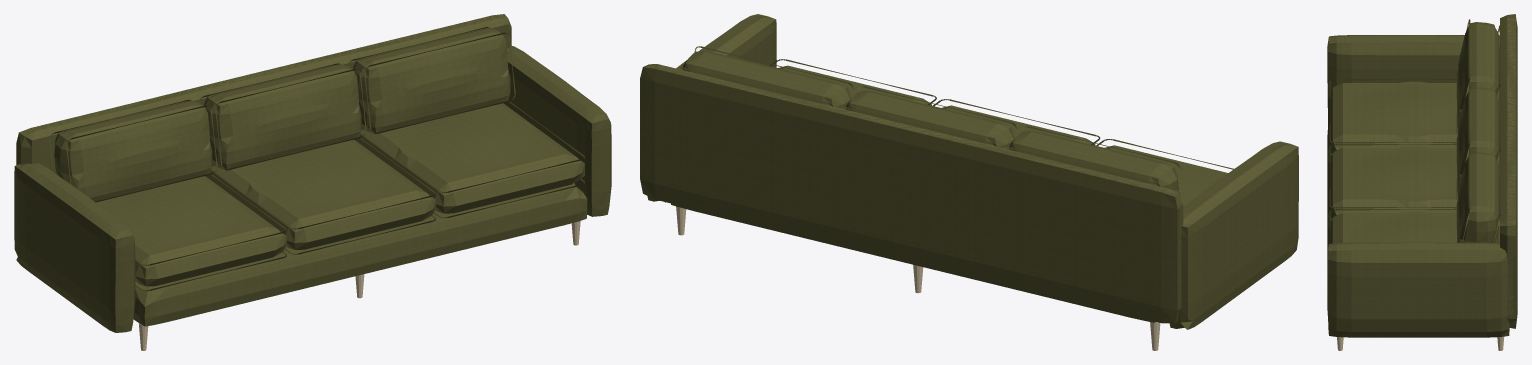
Rendered from ATL-SOF-4-seat.glb.
3 renders of one model, left to right at view 1: azimuth 30°, elevation 25°; view 2: azimuth 150°, elevation 25°; view 3: azimuth 270°, elevation 25°, orthographic. The views are drawn at different scales.
Parts seen in each view (by area): view 1: deck:fabric:eyJwcmVzZXQiOiJoZXJyaW5nYm9uZSIsIndhcnAiOiJvbGl2, seat-3:fabric:eyJwcmVzZXQiOiJoZXJyaW5nYm9uZSIsIndhcnAiOiJvbG, seat-2:fabric:eyJwcmVzZXQiOiJoZXJyaW5nYm9uZSIsIndhcnAiOiJvbG, arm-pad-l:fabric:eyJwcmVzZXQiOiJoZXJyaW5nYm9uZSIsIndhcnAiOiJ, seat-1:fabric:eyJwcmVzZXQiOiJoZXJyaW5nYm9uZSIsIndhcnAiOiJvbG, back-3:fabric:eyJwcmVzZXQiOiJoZXJyaW5nYm9uZSIsIndhcnAiOiJvbG, back-2:fabric:eyJwcmVzZXQiOiJoZXJyaW5nYm9uZSIsIndhcnAiOiJvbG, back-1:fabric:eyJwcmVzZXQiOiJoZXJyaW5nYm9uZSIsIndhcnAiOiJvbG, arm-pad-r:fabric:eyJwcmVzZXQiOiJoZXJyaW5nYm9uZSIsIndhcnAiOiJ, back-pad:fabric:eyJwcmVzZXQiOiJoZXJyaW5nYm9uZSIsIndhcnAiOiJv, back-2:piping:pbr, back-3:piping:pbr (+4 smaller); view 2: back-pad:fabric:eyJwcmVzZXQiOiJoZXJyaW5nYm9uZSIsIndhcnAiOiJv, arm-pad-l:fabric:eyJwcmVzZXQiOiJoZXJyaW5nYm9uZSIsIndhcnAiOiJ, back-1:fabric:eyJwcmVzZXQiOiJoZXJyaW5nYm9uZSIsIndhcnAiOiJvbG, back-3:fabric:eyJwcmVzZXQiOiJoZXJyaW5nYm9uZSIsIndhcnAiOiJvbG, back-2:fabric:eyJwcmVzZXQiOiJoZXJyaW5nYm9uZSIsIndhcnAiOiJvbG, arm-pad-r:fabric:eyJwcmVzZXQiOiJoZXJyaW5nYm9uZSIsIndhcnAiOiJ, seat-1:fabric:eyJwcmVzZXQiOiJoZXJyaW5nYm9uZSIsIndhcnAiOiJvbG, deck:fabric:eyJwcmVzZXQiOiJoZXJyaW5nYm9uZSIsIndhcnAiOiJvbGl2, seat-3:fabric:eyJwcmVzZXQiOiJoZXJyaW5nYm9uZSIsIndhcnAiOiJvbG, seat-2:fabric:eyJwcmVzZXQiOiJoZXJyaW5nYm9uZSIsIndhcnAiOiJvbG, back-1:piping:pbr, back-2:piping:pbr (+1 smaller); view 3: arm-pad-r:fabric:eyJwcmVzZXQiOiJoZXJyaW5nYm9uZSIsIndhcnAiOiJ, seat-1:fabric:eyJwcmVzZXQiOiJoZXJyaW5nYm9uZSIsIndhcnAiOiJvbG, seat-2:fabric:eyJwcmVzZXQiOiJoZXJyaW5nYm9uZSIsIndhcnAiOiJvbG, arm-pad-l:fabric:eyJwcmVzZXQiOiJoZXJyaW5nYm9uZSIsIndhcnAiOiJ, back-pad:fabric:eyJwcmVzZXQiOiJoZXJyaW5nYm9uZSIsIndhcnAiOiJv, seat-3:fabric:eyJwcmVzZXQiOiJoZXJyaW5nYm9uZSIsIndhcnAiOiJvbG, back-3:fabric:eyJwcmVzZXQiOiJoZXJyaW5nYm9uZSIsIndhcnAiOiJvbG, back-1:fabric:eyJwcmVzZXQiOiJoZXJyaW5nYm9uZSIsIndhcnAiOiJvbG, back-2:fabric:eyJwcmVzZXQiOiJoZXJyaW5nYm9uZSIsIndhcnAiOiJvbG, seat-1:piping:pbr, seat-2:piping:pbr, back-3:piping:pbr (+4 smaller).
Boxes of the visible parts, x1,y1,x2,y2 form: deck:fabric:eyJwcmVzZXQiOiJoZXJyaW5nYm9uZSIsIndhcnAiOiJvbGl2: (133, 183, 587, 326); seat-3:fabric:eyJwcmVzZXQiOiJoZXJyaW5nYm9uZSIsIndhcnAiOiJvbG: (354, 103, 584, 213); seat-2:fabric:eyJwcmVzZXQiOiJoZXJyaW5nYm9uZSIsIndhcnAiOiJvbG: (205, 139, 435, 249); arm-pad-l:fabric:eyJwcmVzZXQiOiJoZXJyaW5nYm9uZSIsIndhcnAiOiJ: (14, 163, 135, 332); seat-1:fabric:eyJwcmVzZXQiOiJoZXJyaW5nYm9uZSIsIndhcnAiOiJvbG: (96, 176, 286, 286); back-3:fabric:eyJwcmVzZXQiOiJoZXJyaW5nYm9uZSIsIndhcnAiOiJvbG: (353, 28, 510, 132); back-2:fabric:eyJwcmVzZXQiOiJoZXJyaW5nYm9uZSIsIndhcnAiOiJvbG: (204, 64, 361, 169); back-1:fabric:eyJwcmVzZXQiOiJoZXJyaW5nYm9uZSIsIndhcnAiOiJvbG: (54, 100, 212, 201); arm-pad-r:fabric:eyJwcmVzZXQiOiJoZXJyaW5nYm9uZSIsIndhcnAiOiJ: (503, 45, 611, 216); back-pad:fabric:eyJwcmVzZXQiOiJoZXJyaW5nYm9uZSIsIndhcnAiOiJv: (16, 14, 511, 173); back-2:piping:pbr: (198, 63, 366, 170); back-3:piping:pbr: (347, 27, 515, 133); back-pad:fabric:eyJwcmVzZXQiOiJoZXJyaW5nYm9uZSIsIndhcnAiOiJv: (640, 64, 1183, 323); arm-pad-l:fabric:eyJwcmVzZXQiOiJoZXJyaW5nYm9uZSIsIndhcnAiOiJ: (1169, 141, 1298, 329); back-1:fabric:eyJwcmVzZXQiOiJoZXJyaW5nYm9uZSIsIndhcnAiOiJvbG: (1009, 130, 1178, 190); back-3:fabric:eyJwcmVzZXQiOiJoZXJyaW5nYm9uZSIsIndhcnAiOiJvbG: (682, 50, 850, 109); back-2:fabric:eyJwcmVzZXQiOiJoZXJyaW5nYm9uZSIsIndhcnAiOiJvbG: (846, 90, 1014, 149); arm-pad-r:fabric:eyJwcmVzZXQiOiJoZXJyaW5nYm9uZSIsIndhcnAiOiJ: (647, 14, 776, 202); seat-1:fabric:eyJwcmVzZXQiOiJoZXJyaW5nYm9uZSIsIndhcnAiOiJvbG: (1105, 145, 1227, 206); deck:fabric:eyJwcmVzZXQiOiJoZXJyaW5nYm9uZSIsIndhcnAiOiJvbGl2: (671, 203, 1155, 322); seat-3:fabric:eyJwcmVzZXQiOiJoZXJyaW5nYm9uZSIsIndhcnAiOiJvbG: (778, 65, 931, 105); seat-2:fabric:eyJwcmVzZXQiOiJoZXJyaW5nYm9uZSIsIndhcnAiOiJvbG: (942, 105, 1095, 145); back-1:piping:pbr: (1004, 126, 1185, 205); back-2:piping:pbr: (841, 86, 1018, 146); arm-pad-r:fabric:eyJwcmVzZXQiOiJoZXJyaW5nYm9uZSIsIndhcnAiOiJ: (1327, 242, 1509, 337); seat-1:fabric:eyJwcmVzZXQiOiJoZXJyaW5nYm9uZSIsIndhcnAiOiJvbG: (1328, 81, 1499, 155); seat-2:fabric:eyJwcmVzZXQiOiJoZXJyaW5nYm9uZSIsIndhcnAiOiJvbG: (1328, 146, 1499, 220); arm-pad-l:fabric:eyJwcmVzZXQiOiJoZXJyaW5nYm9uZSIsIndhcnAiOiJ: (1327, 35, 1499, 107); back-pad:fabric:eyJwcmVzZXQiOiJoZXJyaW5nYm9uZSIsIndhcnAiOiJv: (1500, 14, 1517, 328); seat-3:fabric:eyJwcmVzZXQiOiJoZXJyaW5nYm9uZSIsIndhcnAiOiJvbG: (1328, 211, 1499, 248); back-3:fabric:eyJwcmVzZXQiOiJoZXJyaW5nYm9uZSIsIndhcnAiOiJvbG: (1457, 152, 1499, 242); back-1:fabric:eyJwcmVzZXQiOiJoZXJyaW5nYm9uZSIsIndhcnAiOiJvbG: (1457, 22, 1499, 128); back-2:fabric:eyJwcmVzZXQiOiJoZXJyaW5nYm9uZSIsIndhcnAiOiJvbG: (1457, 87, 1499, 193); seat-1:piping:pbr: (1329, 79, 1456, 143); seat-2:piping:pbr: (1329, 144, 1456, 208); back-3:piping:pbr: (1456, 149, 1500, 242).
Bounding box in the file's own units: 2.6 × 0.78 × 0.95.
Materials: 22 (10 with a texture image).
